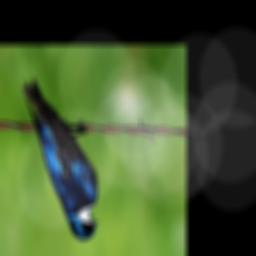Swallow: (21, 78, 100, 240)
